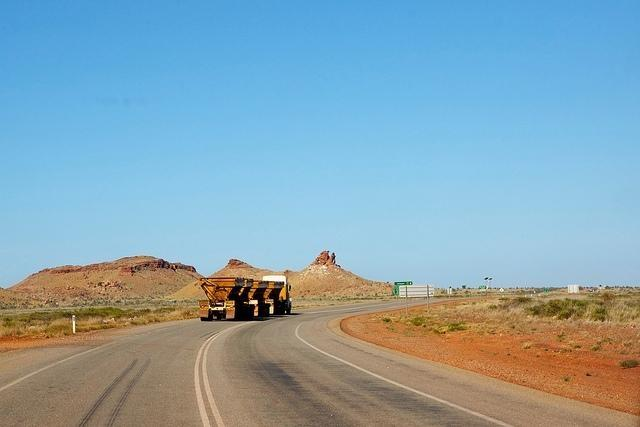truck: (198, 275, 294, 322)
